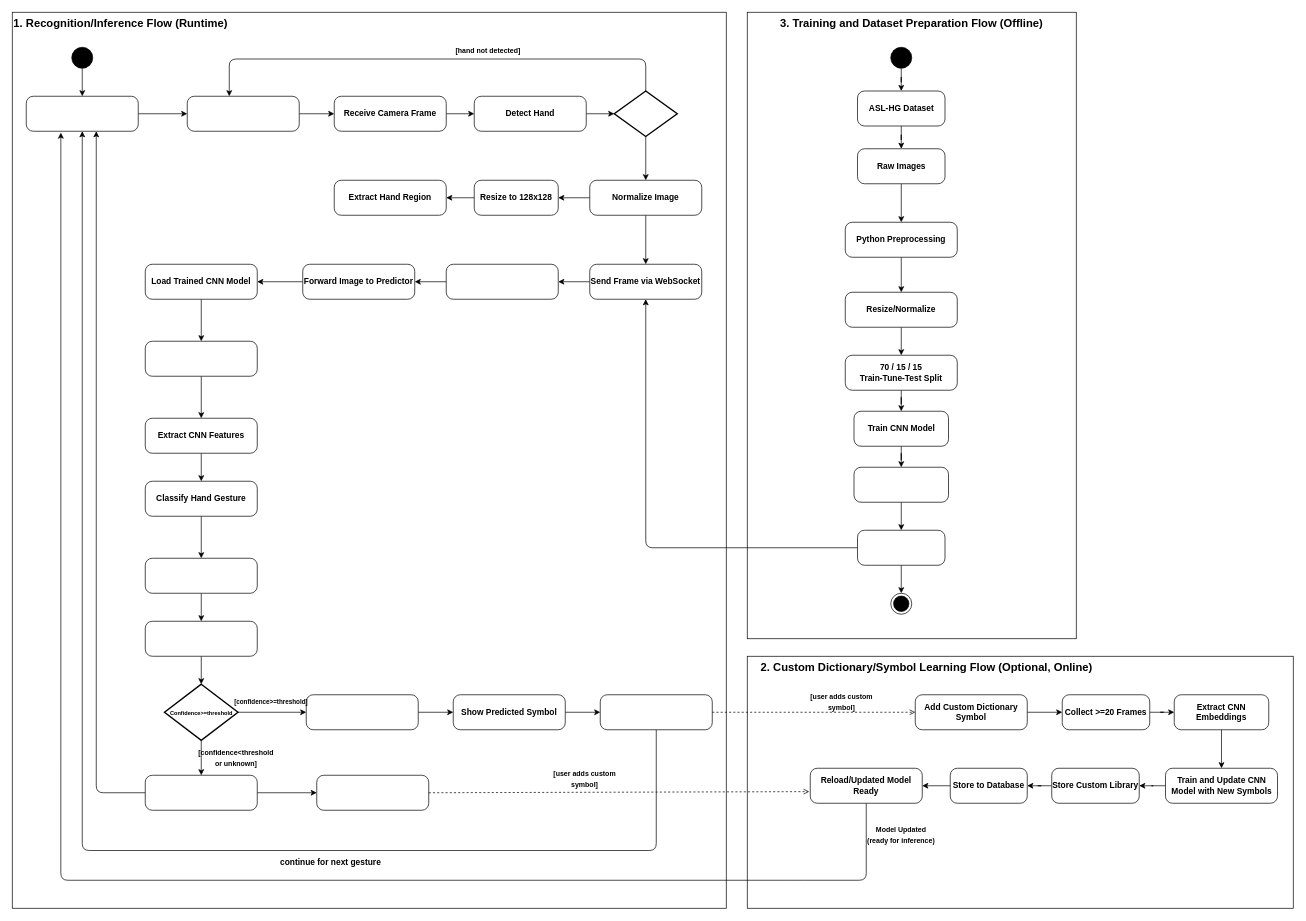
The diagram is 1306 pixels wide and 921 high, and some of its shapes have lost their labels. The centre of each missing label's shape, as x and y in pixels:
Accept Prediction/Symbol: the point at 362,712
Capture Camera Frame: the point at 243,113
CNN Model with Labels: the point at 901,547
Display Result to User: the point at 656,712
Evaluate Confidence Threhold: the point at 201,638
Generate Prediction + Confidence: the point at 201,575
Hand Detected?: the point at 645,113
Idle/ Waiting for gesture: the point at 82,113
Process 128x128 Image: the point at 201,358
Receive WebSocket Frame: the point at 502,281
Reject Prediction: the point at 372,792
Trained CNN Model: the point at 900,484
Undefined Symbol: the point at 201,792
